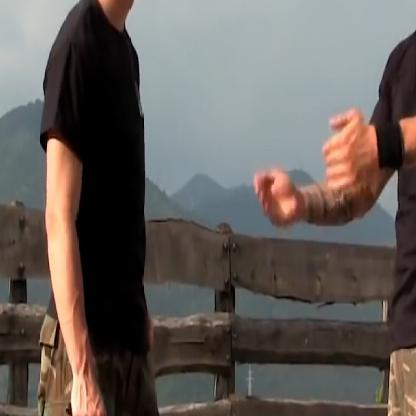knife: (58, 389, 162, 415)
